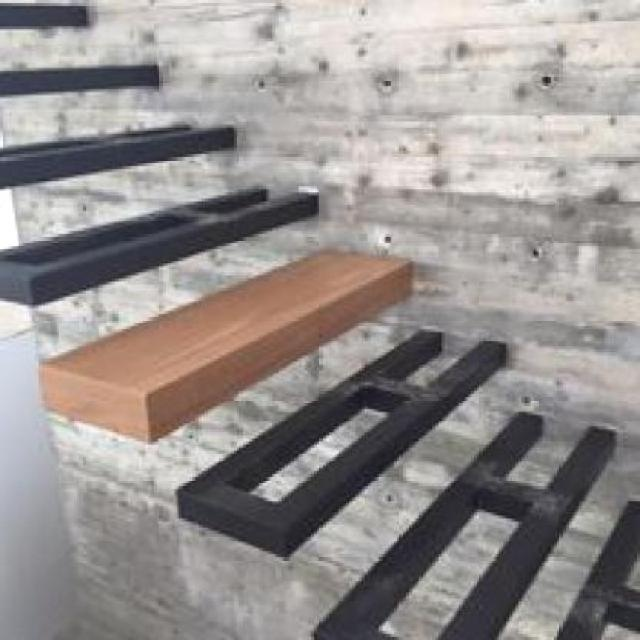stair: (3, 0, 640, 637)
